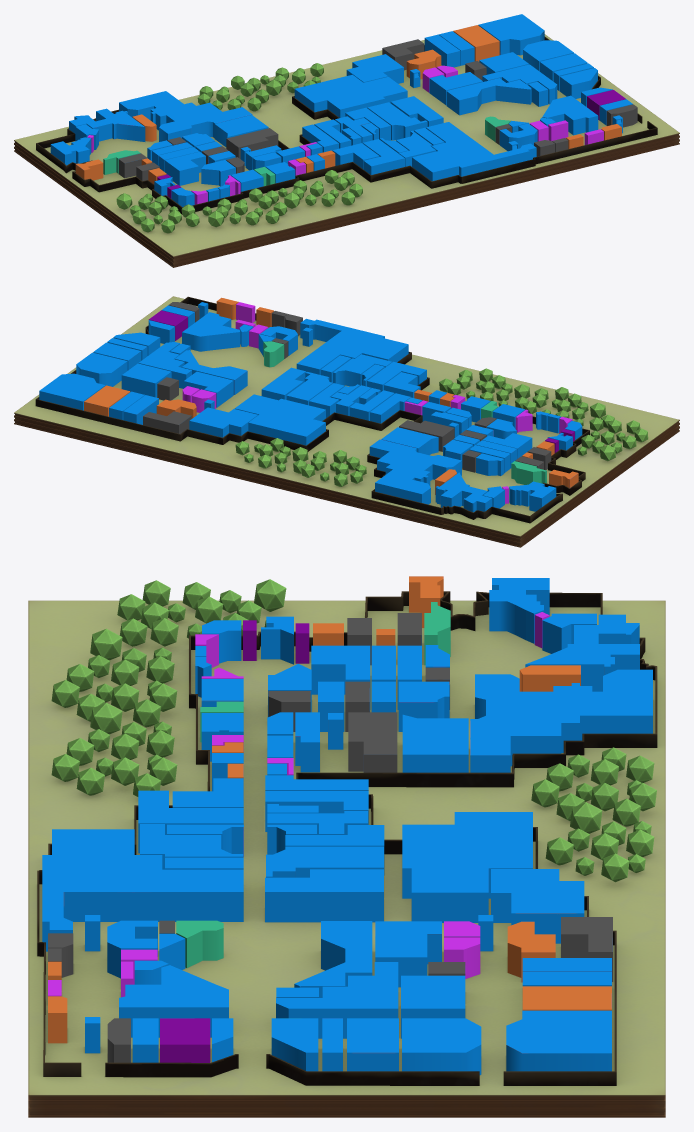
The model's file is GLTF.gltf.
3 renders of one model, top to bottom at view 1: azimuth 30°, elevation 25°; view 2: azimuth 150°, elevation 25°; view 3: azimuth 270°, elevation 25°, orthographic. The views are drawn at different scales.
Visible parts, largest first — view 1: land, trees, walls, units polySurface95, units polySurface5, units polySurface25, units polySurface63, units polySurface50, units polySurface56, units polySurface93, units polySurface49, units polySurface30 (+32 smaller); view 2: land, trees, walls, units polySurface5, units polySurface95, units polySurface25, units polySurface93, units polySurface50, units polySurface49, units polySurface56, units polySurface98, units polySurface13 (+36 smaller); view 3: land, trees, walls, units polySurface95, units polySurface5, units polySurface25, units polySurface50, units polySurface67, units polySurface49, units polySurface100, units polySurface93, units polySurface56 (+54 smaller).
Part boxes in pixels (box(x1,y1,x2,y2)): land: box(14, 34, 679, 267); trees: box(116, 63, 362, 233); walls: box(36, 36, 657, 214); units polySurface95: box(412, 122, 536, 181); units polySurface5: box(119, 91, 252, 141); units polySurface25: box(294, 74, 407, 117); units polySurface63: box(446, 78, 531, 115); units polySurface50: box(478, 14, 544, 55); units polySurface56: box(69, 108, 145, 141); units polySurface93: box(542, 95, 598, 135); units polySurface49: box(346, 54, 403, 83); units polySurface30: box(367, 102, 427, 140); land: box(14, 296, 679, 547); trees: box(235, 368, 648, 486); walls: box(35, 296, 589, 523); units polySurface5: box(369, 439, 461, 504); units polySurface95: box(296, 318, 408, 374); units polySurface25: box(234, 394, 325, 445); units polySurface93: box(182, 312, 239, 351); units polySurface50: box(39, 373, 105, 410); units polySurface49: box(189, 407, 257, 437); units polySurface56: box(435, 472, 492, 512); units polySurface98: box(76, 352, 127, 386); units polySurface13: box(121, 363, 171, 397); land: box(28, 600, 665, 1117); trees: box(51, 579, 656, 882); walls: box(37, 591, 657, 1085); units polySurface95: box(42, 829, 243, 951); units polySurface5: box(470, 669, 652, 772); units polySurface25: box(402, 812, 532, 922); units polySurface50: box(506, 1010, 611, 1071); units polySurface67: box(265, 869, 383, 922); units polySurface49: box(491, 869, 584, 943); units polySurface100: box(276, 962, 398, 1038); units polySurface93: box(119, 965, 228, 1037); units polySurface56: box(525, 614, 639, 691).
Size of the model in its own units: 4791 by 250 by 2608.
Materials: 4 (4 with a texture image).
